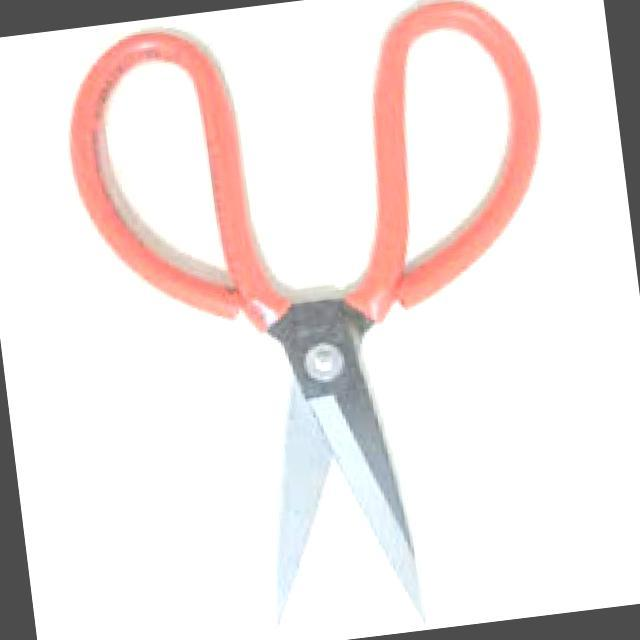Scissors: (33, 0, 608, 640)
